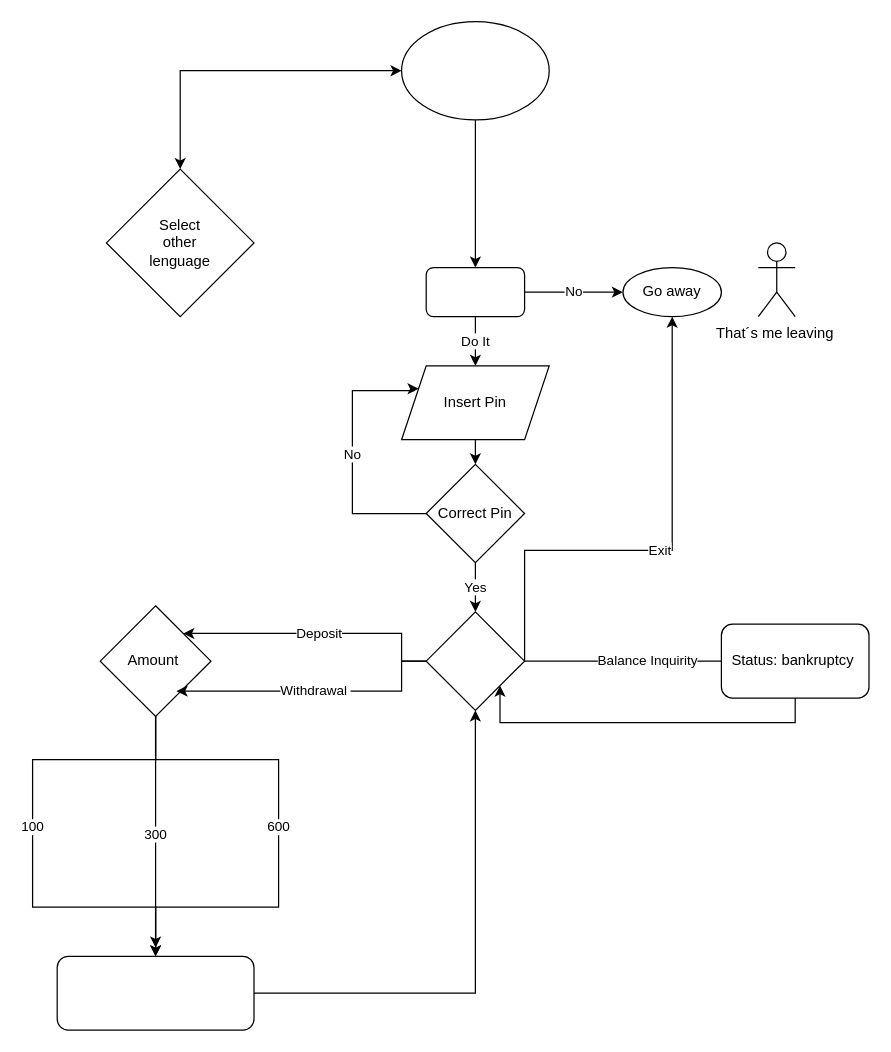
Image size: 891x1052. Some labels were removed from this diagram. The shapes that lost their labels are listed below. From the top down, each one's box as (x1, y1, x2, y2) in pixels, then its label:
(400, 20, 549, 120): Welcome
(425, 266, 525, 317): Insert card
(425, 611, 525, 710): Options
(56, 955, 254, 1030): Get the money
